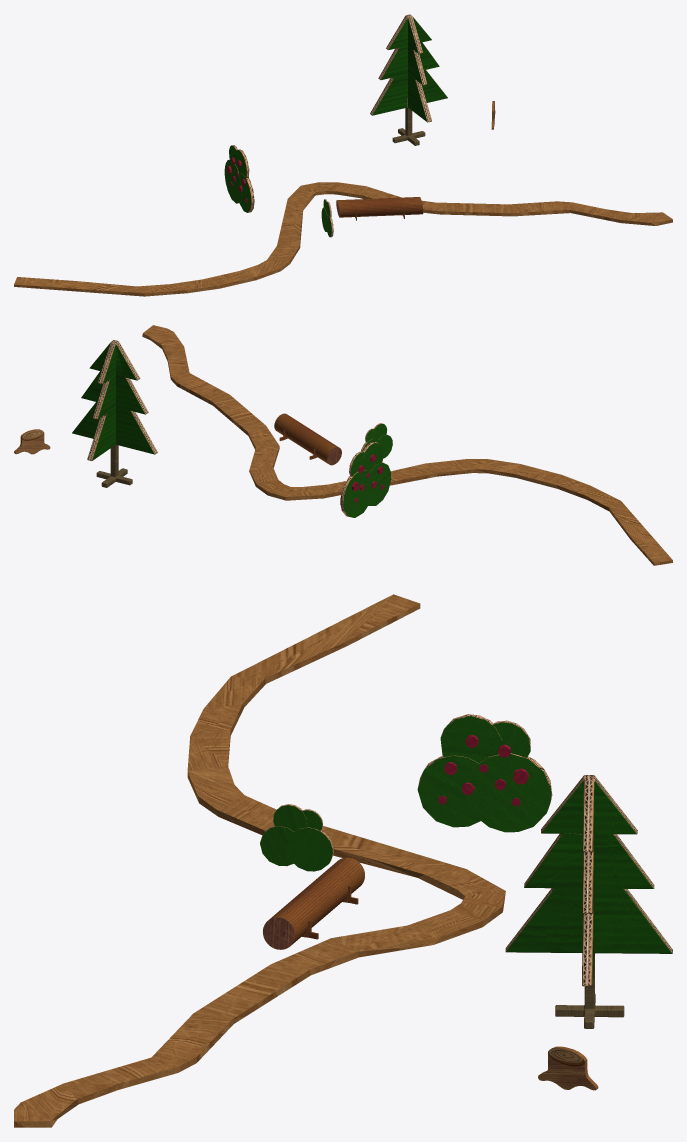
The model's file is items_new.fbx.
3 views of the same model, one above another, from view 1: azimuth 30°, elevation 25°; view 2: azimuth 150°, elevation 25°; view 3: azimuth 270°, elevation 25° (orthographic). The views are drawn at different scales.
Parts seen in each view (by area): view 1: Plane, tree_4.005, brevno.001, kust.007; view 2: Plane, tree_4.005, kust.007, brevno.001, penek.001, kust.006; view 3: Plane, tree_4.005, kust.007, brevno.001, kust.006, penek.001.
Part boxes in pixels (<box>): Plane: <box>14,182,672,296</box>; tree_4.005: <box>370,14,447,145</box>; brevno.001: <box>336,197,423,220</box>; kust.007: <box>224,145,254,212</box>; Plane: <box>142,325,672,565</box>; tree_4.005: <box>72,340,157,487</box>; kust.007: <box>340,442,391,517</box>; brevno.001: <box>274,413,341,465</box>; penek.001: <box>14,429,50,454</box>; kust.006: <box>361,423,392,458</box>; Plane: <box>14,594,505,1127</box>; tree_4.005: <box>505,775,672,1028</box>; kust.007: <box>417,714,552,832</box>; brevno.001: <box>263,857,364,949</box>; kust.006: <box>260,804,333,871</box>; penek.001: <box>538,1046,598,1090</box>.
Size of the model in its own units: 51330 by 10983 by 27074.
